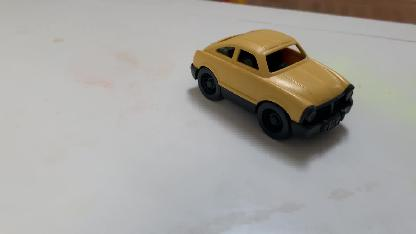yellow mini cooper: (189, 24, 357, 146)
